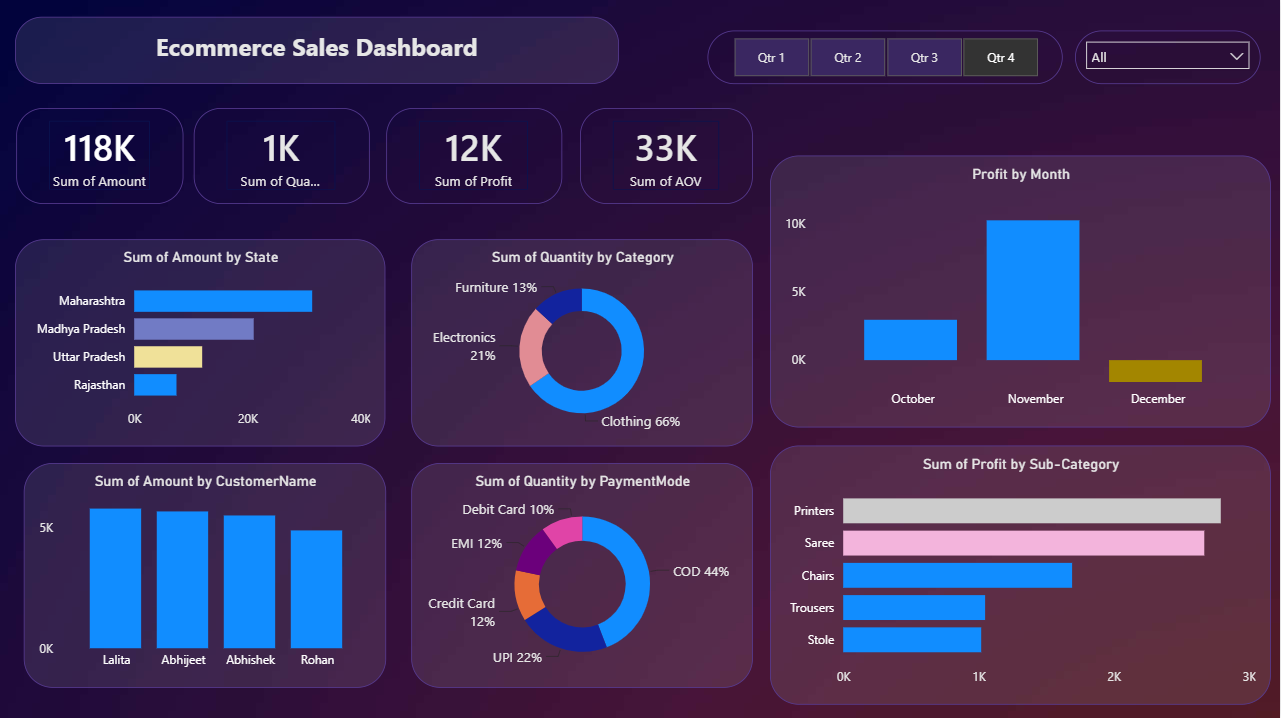

Layout of this report page (visuals, bound fields, positions):
{"tool":"powerbi","page":{"name":"Page 1","canvas":[1280,720],"ordinal":0},"visuals":[{"type":"textbox","box":[15.1,19.2,603.8,67.2],"z":0},{"type":"columnChart","title":"Profit by Month","fields":{"Category":["Orders.Order Date.Variation.Date Hierarchy.Month"],"Y":["Sum(Details.Profit)"]},"box":[769.8,157.8,500.9,271.7],"z":1000},{"type":"barChart","fields":{"Category":["Details.Sub-Category"],"Y":["Sum(Details.Profit)"]},"box":[769.8,447.3,500.9,259.3],"z":2000},{"type":"donutChart","fields":{"Category":["Details.Category"],"Y":["Sum(Details.Quantity)"]},"box":[411.7,241.5,341.7,207.2],"z":3000},{"type":"donutChart","fields":{"Category":["Details.PaymentMode"],"Y":["Sum(Details.Quantity)"]},"box":[411.7,465.2,341.7,225],"z":4000},{"type":"cardVisual","fields":{"Data":["Sum(Details.Amount)"]},"box":[15.7,110,167.1,95.7],"z":5000},{"type":"cardVisual","fields":{"Data":["Sum(Details.Quantity)"]},"box":[194.3,110,175.7,95.7],"z":6000},{"type":"cardVisual","fields":{"Data":["Sum(Details.Profit)"]},"box":[385.7,110,175.7,95.7],"z":7000},{"type":"cardVisual","fields":{"Data":["Sum(Details.AOV)"]},"box":[580,110,172.9,95.7],"z":8000},{"type":"barChart","fields":{"Category":["Orders.State"],"Y":["Sum(Details.Amount)"]},"box":[15.1,241.5,370.5,207.2],"z":9000},{"type":"columnChart","fields":{"Category":["Orders.CustomerName"],"Y":["Sum(Details.Amount)"]},"box":[23.3,465.2,362.3,225],"z":10000},{"type":"slicer","fields":{"Values":["Orders.Order Date.Variation.Date Hierarchy.Quarter"]},"box":[708.1,32.9,355.4,53.5],"z":11000},{"type":"slicer","fields":{"Values":["Orders.State"]},"box":[1074.4,32.9,185.2,53.5],"z":12000}]}

Visuals, with their boxes in screenshot pixels (x1, y1, x2, y2), scaled from the page's 1280x720 canvas onto the 1281x718 screenshot:
textbox: (15,19,619,86)
"Profit by Month" columnChart: (770,157,1272,428)
barChart - Details.Sub-Category x Sum(Details.Profit): (770,446,1272,705)
donutChart - Details.Category x Sum(Details.Quantity): (412,241,754,447)
donutChart - Details.PaymentMode x Sum(Details.Quantity): (412,464,754,688)
cardVisual - Sum(Details.Amount): (16,110,183,205)
cardVisual - Sum(Details.Quantity): (194,110,370,205)
cardVisual - Sum(Details.Profit): (386,110,562,205)
cardVisual - Sum(Details.AOV): (580,110,753,205)
barChart - Orders.State x Sum(Details.Amount): (15,241,386,447)
columnChart - Orders.CustomerName x Sum(Details.Amount): (23,464,386,688)
slicer - Orders.Order Date.Variation.Date Hierarchy.Quarter: (709,33,1064,86)
slicer - Orders.State: (1075,33,1261,86)
